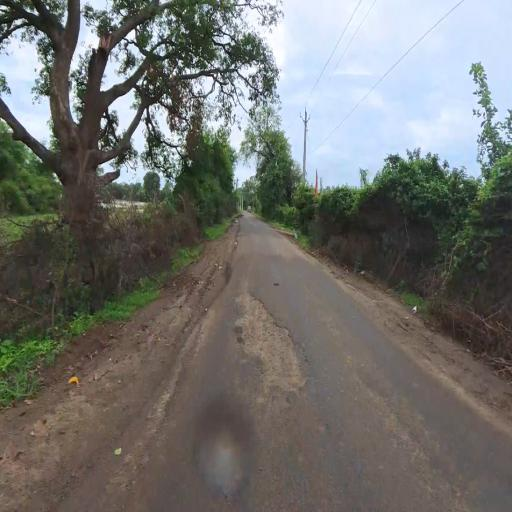ravelling: (229, 267, 327, 434)
